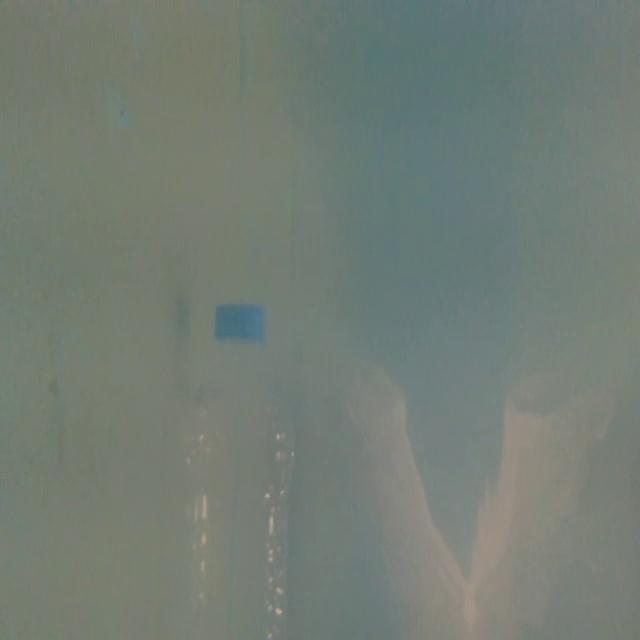plastic bags: (323, 324, 505, 640)
plastic bottle: (164, 290, 288, 630)
